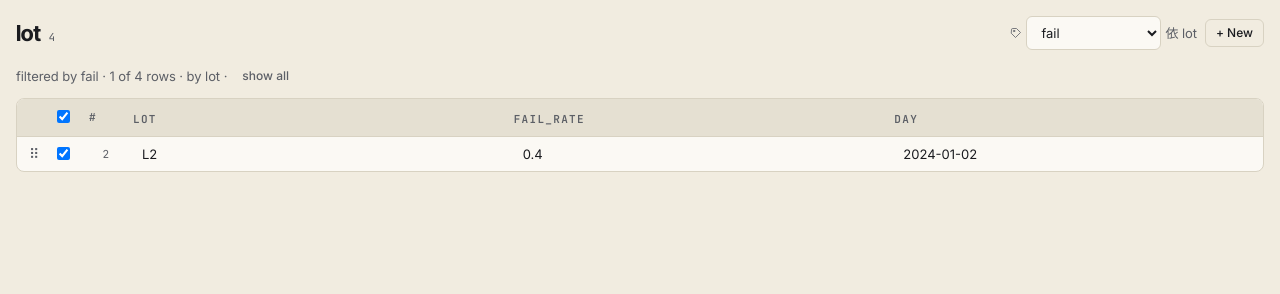
Test: the bar names the keys the marking marks by (P27, #861 D5) › showing all: '· by lot' for a one-column marking
Click the button "show all" at (266, 76), box [231,62,300,90]
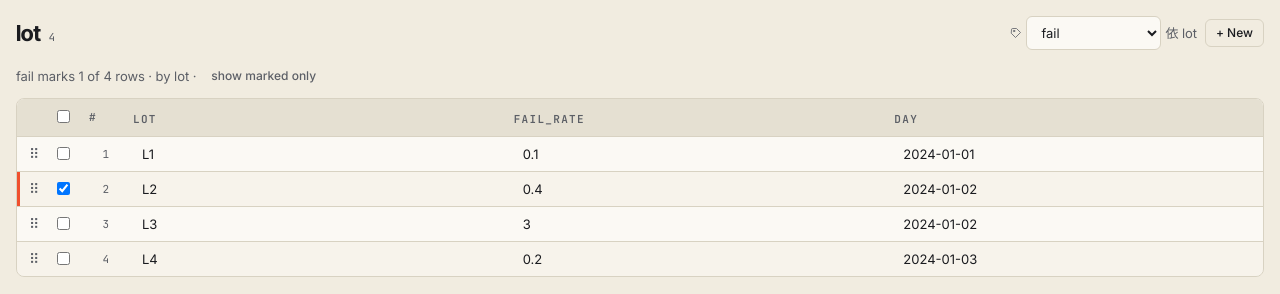
Now the message named "marking filter" reads "fail marks 1 of 4 rows · by lot · show marked only", box [16,62,327,90]
